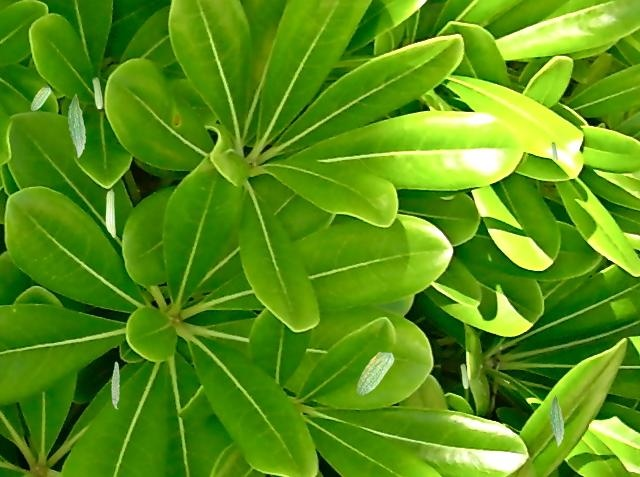ampalaya: (356, 351, 394, 395), (67, 93, 86, 158), (549, 394, 564, 447), (105, 188, 116, 238), (30, 87, 51, 111), (110, 361, 120, 409), (92, 77, 103, 109), (460, 363, 469, 389), (551, 141, 557, 160)
